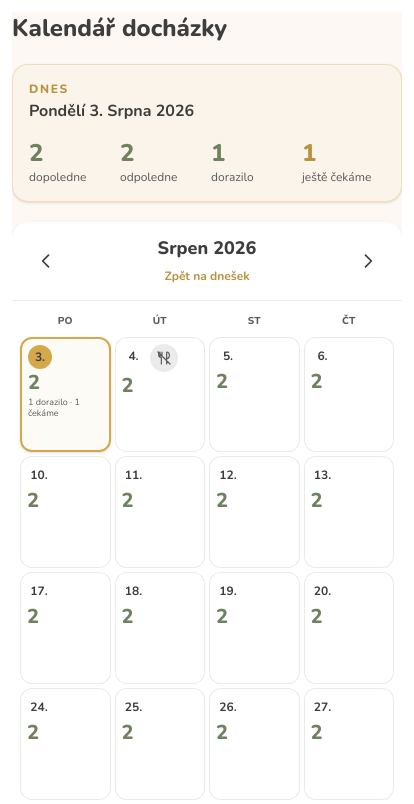
Test: AttendanceCalendar day preview › shows a lightweight preview on mouse hover and hides it on leave
Step 1. Hover over the button with aria-label "pondělí 3. srpna 2026, 2 očekáváno" → (65, 394), box [20,337,110,452]
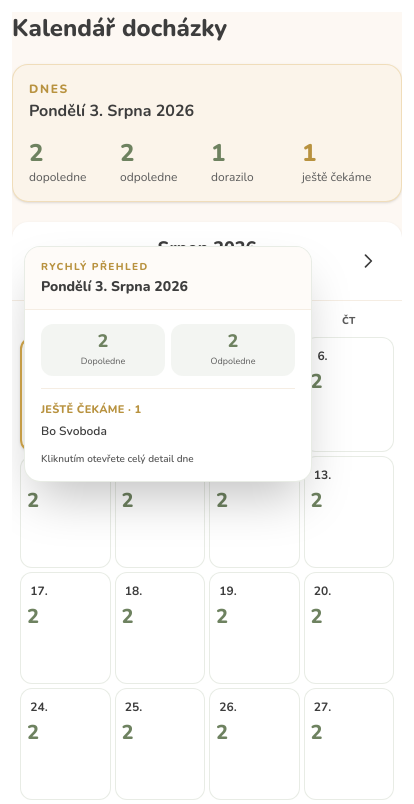
Result: the tooltip is shown at [24,246,312,482]
Step 2. Move the pointer off the button with aria-label "pondělí 3. srpna 2026, 2 očekáváno", box [20,337,110,452]
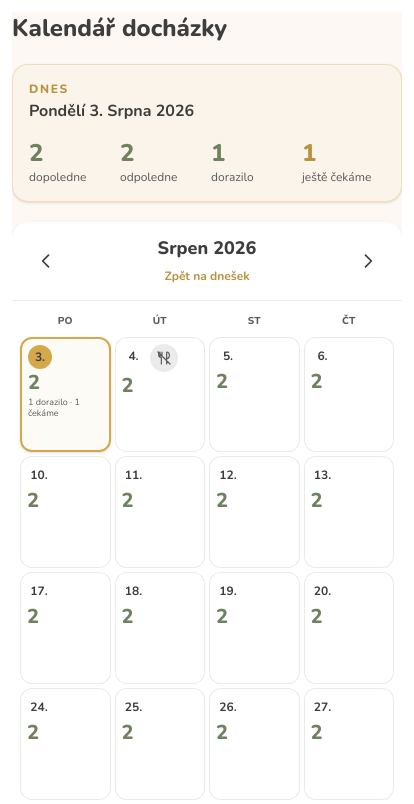
Result: the tooltip is gone
